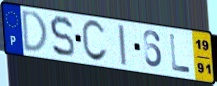6: (142, 29, 164, 70)
C: (80, 19, 109, 64)
D: (21, 9, 49, 54)
I: (116, 24, 128, 68)
L: (168, 33, 192, 75)
S: (48, 14, 76, 59)
